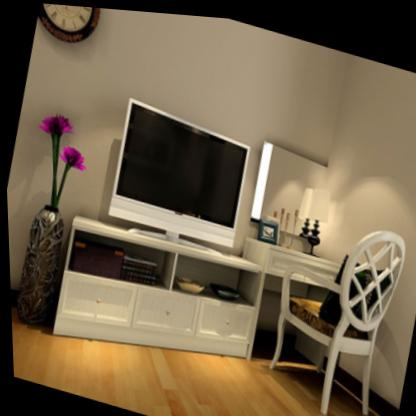TV stand: (45, 202, 266, 388)
Wooden floor: (10, 330, 307, 416)
